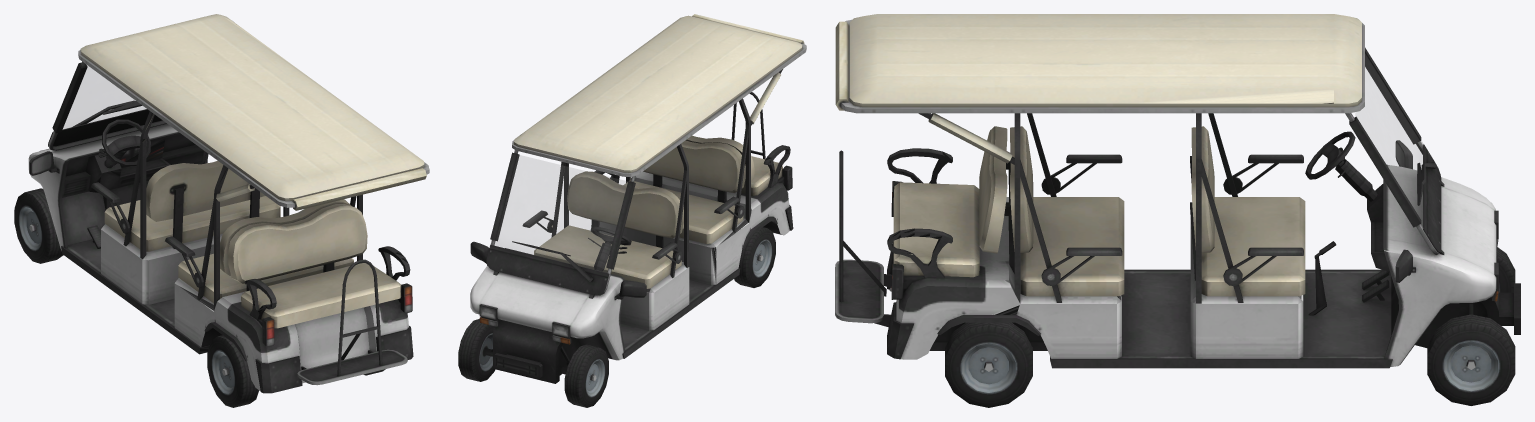
Rendered from car_golfcar2.gltf.
The picture shows the model from 3 angles, left to right: view 1: azimuth 30°, elevation 25°; view 2: azimuth 150°, elevation 25°; view 3: azimuth 270°, elevation 25°; orthographic projection. The views are drawn at different scales.
Visible parts, largest first — view 1: car_golfcar2; view 2: car_golfcar2; view 3: car_golfcar2.
Boxes of the visible parts, x1,y1,x2,y2 form: car_golfcar2: (14, 14, 429, 407); car_golfcar2: (458, 14, 806, 407); car_golfcar2: (835, 14, 1520, 407).
Size of the model in its own units: 1.64 by 1.89 by 3.78.
Materials: 1 (1 with a texture image).
